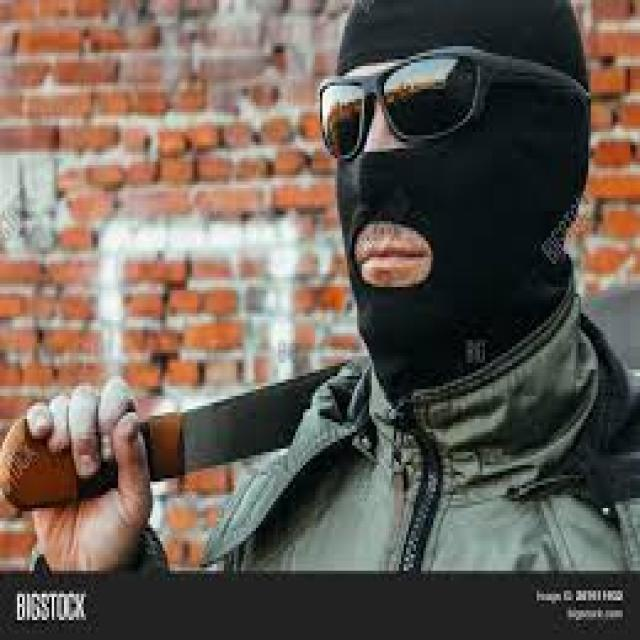6_pasamontana: (337, 0, 594, 385)
